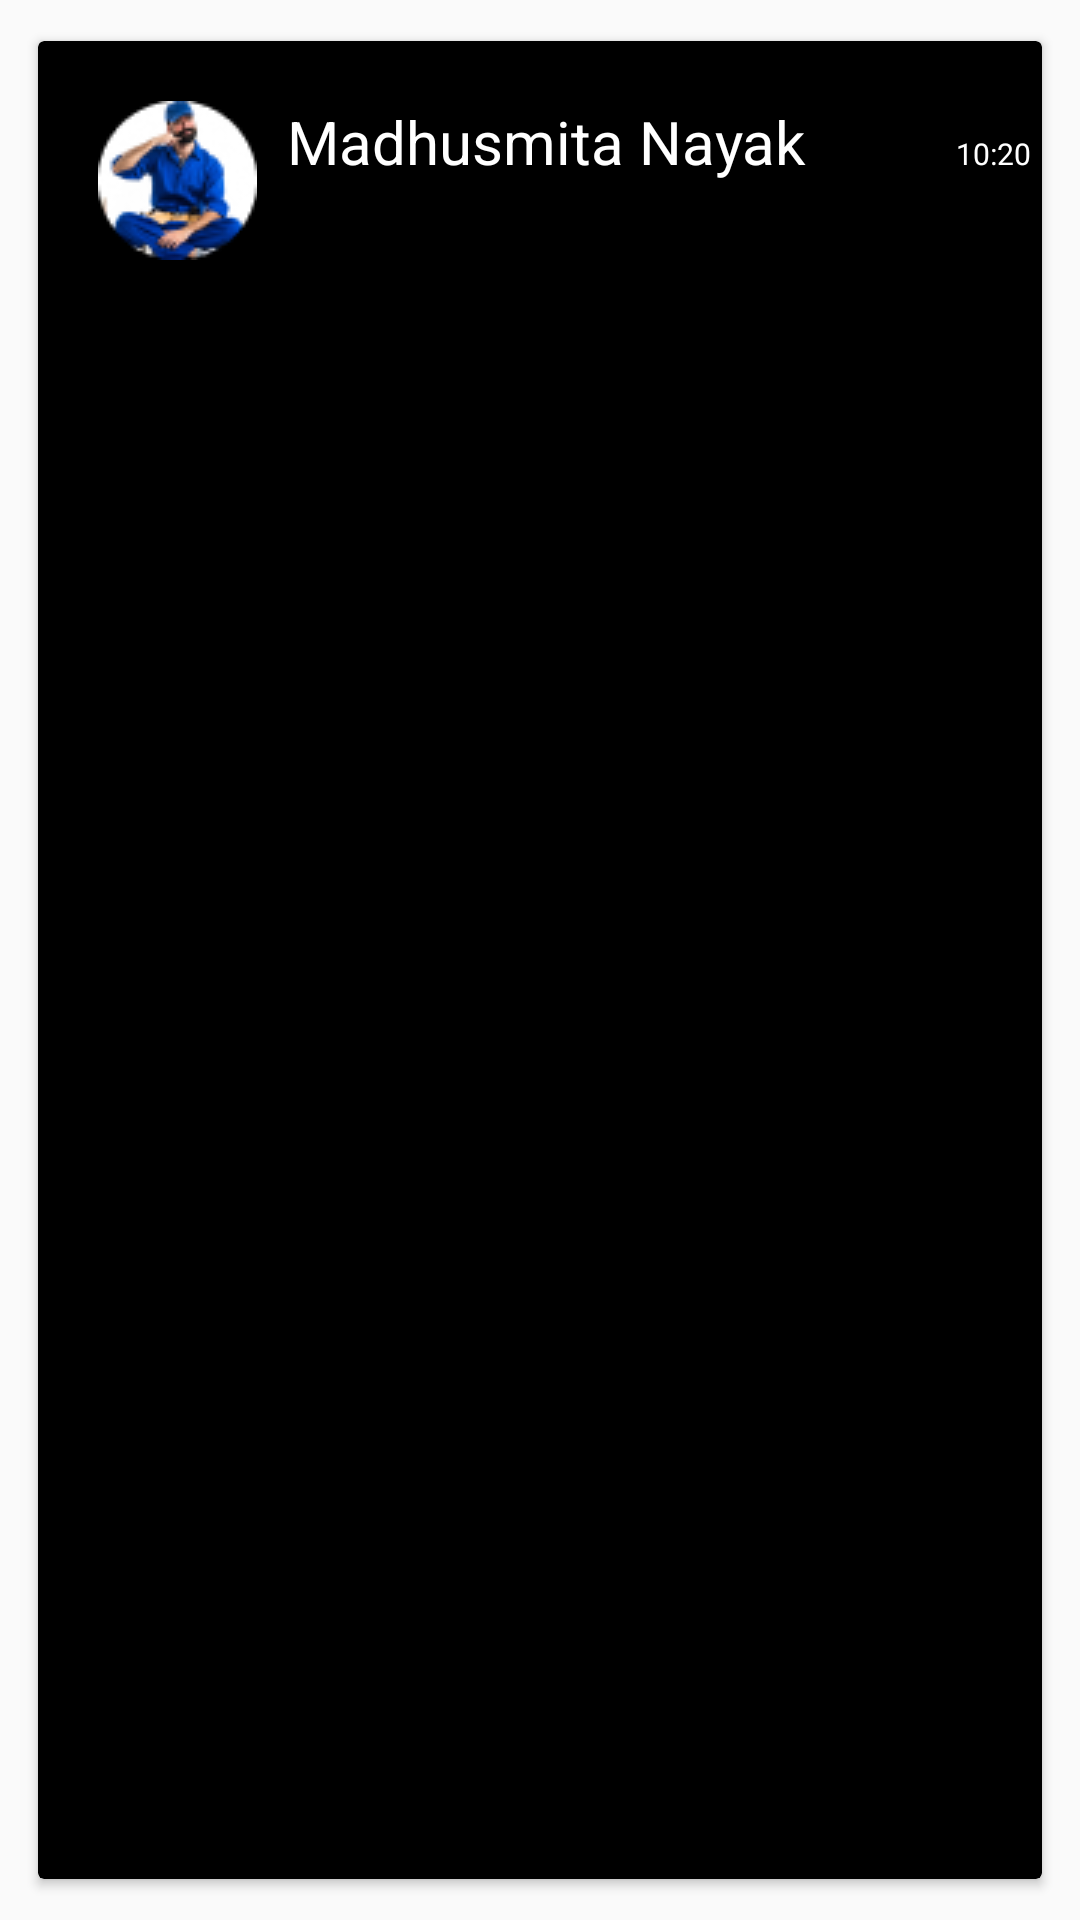

Icons on this 1080w x 1920h Android screen, each with the point to tap as [x,y]:
man: [177,180]
